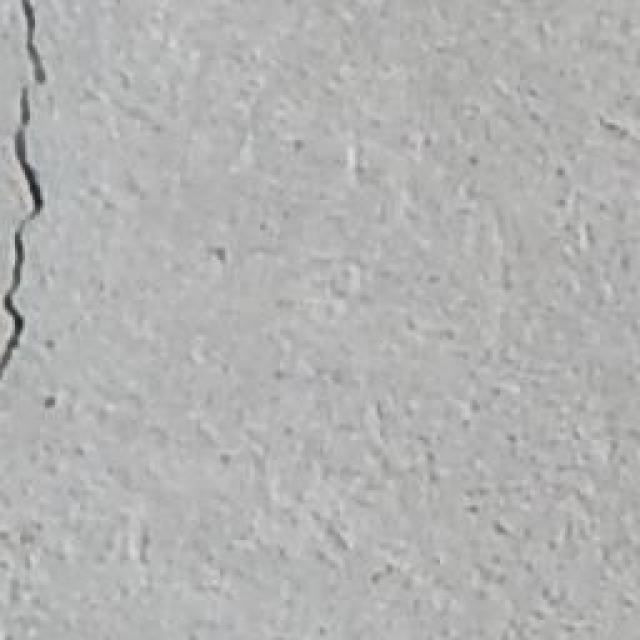concrete-crack: (0, 0, 54, 375)
